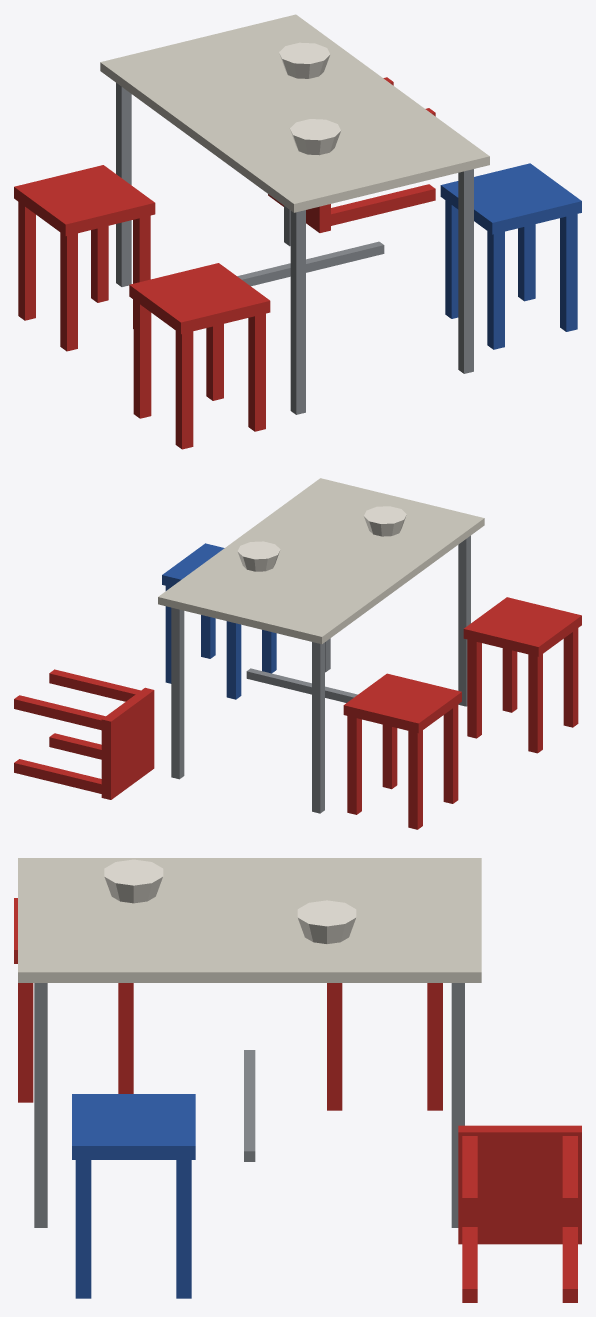
Rendered from tables.glb.
The picture shows the model from 3 angles, top to bottom: view 1: azimuth 30°, elevation 25°; view 2: azimuth 150°, elevation 25°; view 3: azimuth 270°, elevation 25°; orthographic projection. The views are drawn at different scales.
Visible parts, largest first — view 1: tables; view 2: tables; view 3: tables.
Part boxes in pixels (left/top/right/bottom): tables: left=14, top=14, right=581, bottom=449; tables: left=14, top=478, right=581, bottom=829; tables: left=14, top=858, right=581, bottom=1302.
Size of the model in its own units: 1.58 by 0.82 by 1.47.
